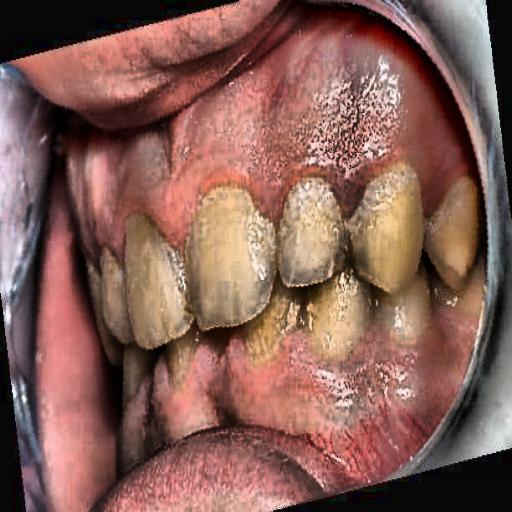Calculus: (120, 164, 486, 370)
